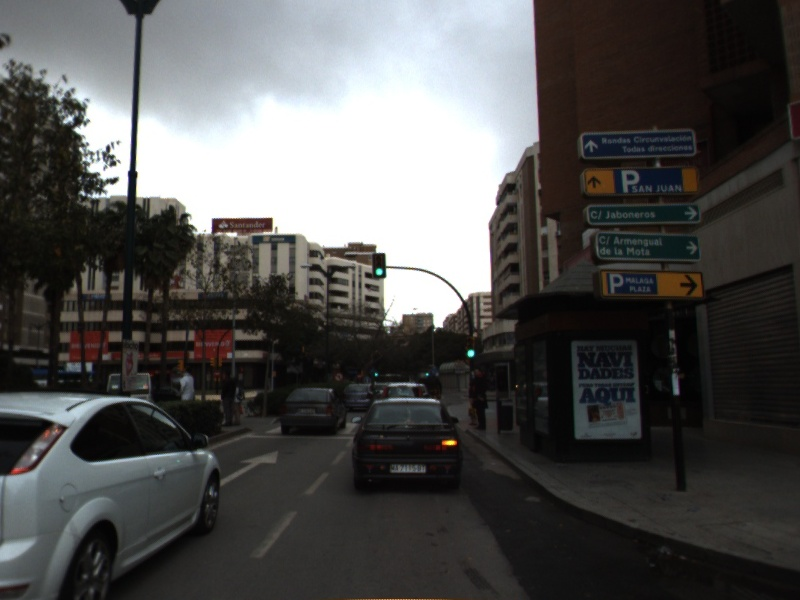STRAIGHT: (220, 448, 280, 486)
